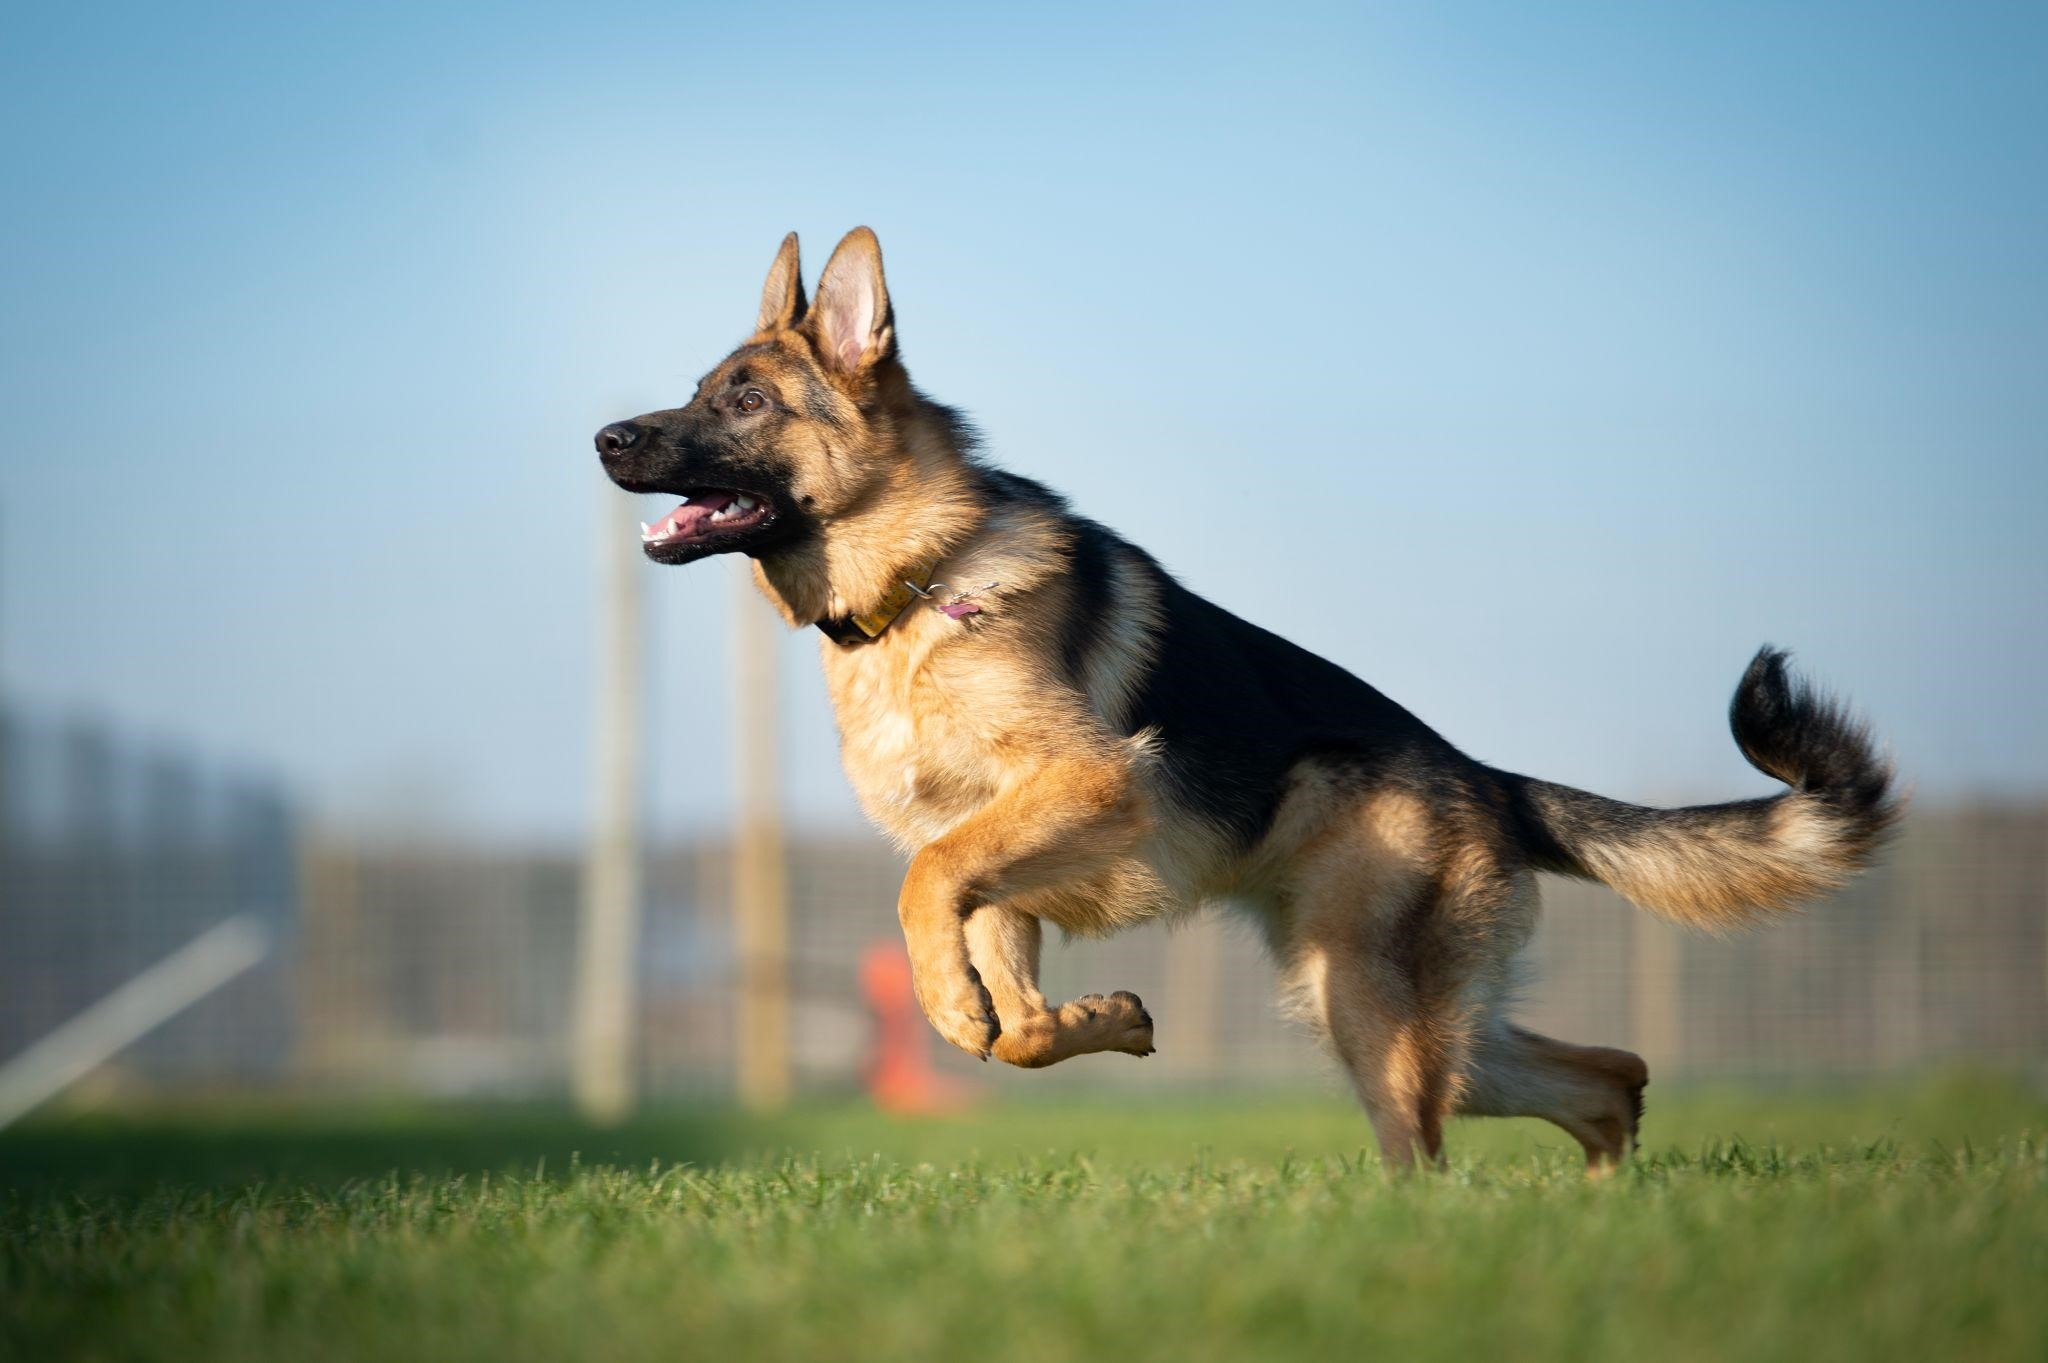dog: (588, 205, 1802, 1202)
